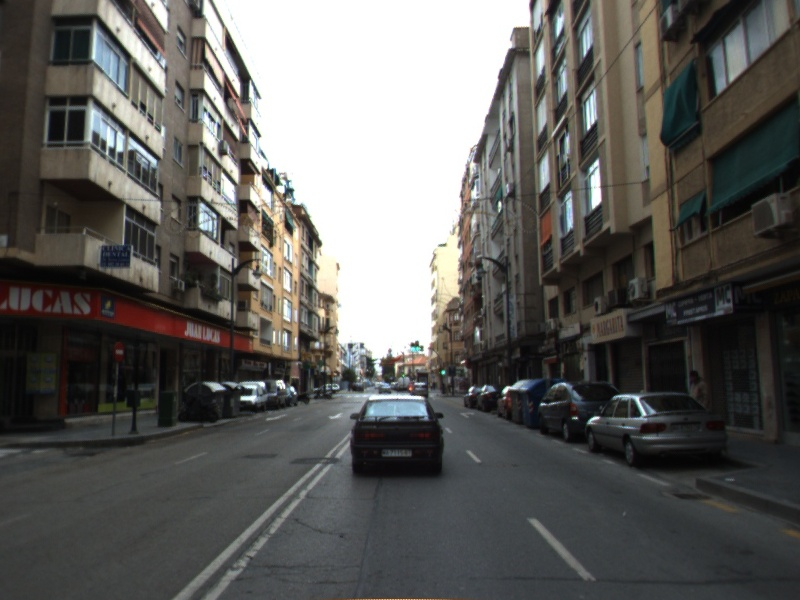RIGHT: (458, 410, 476, 420)
